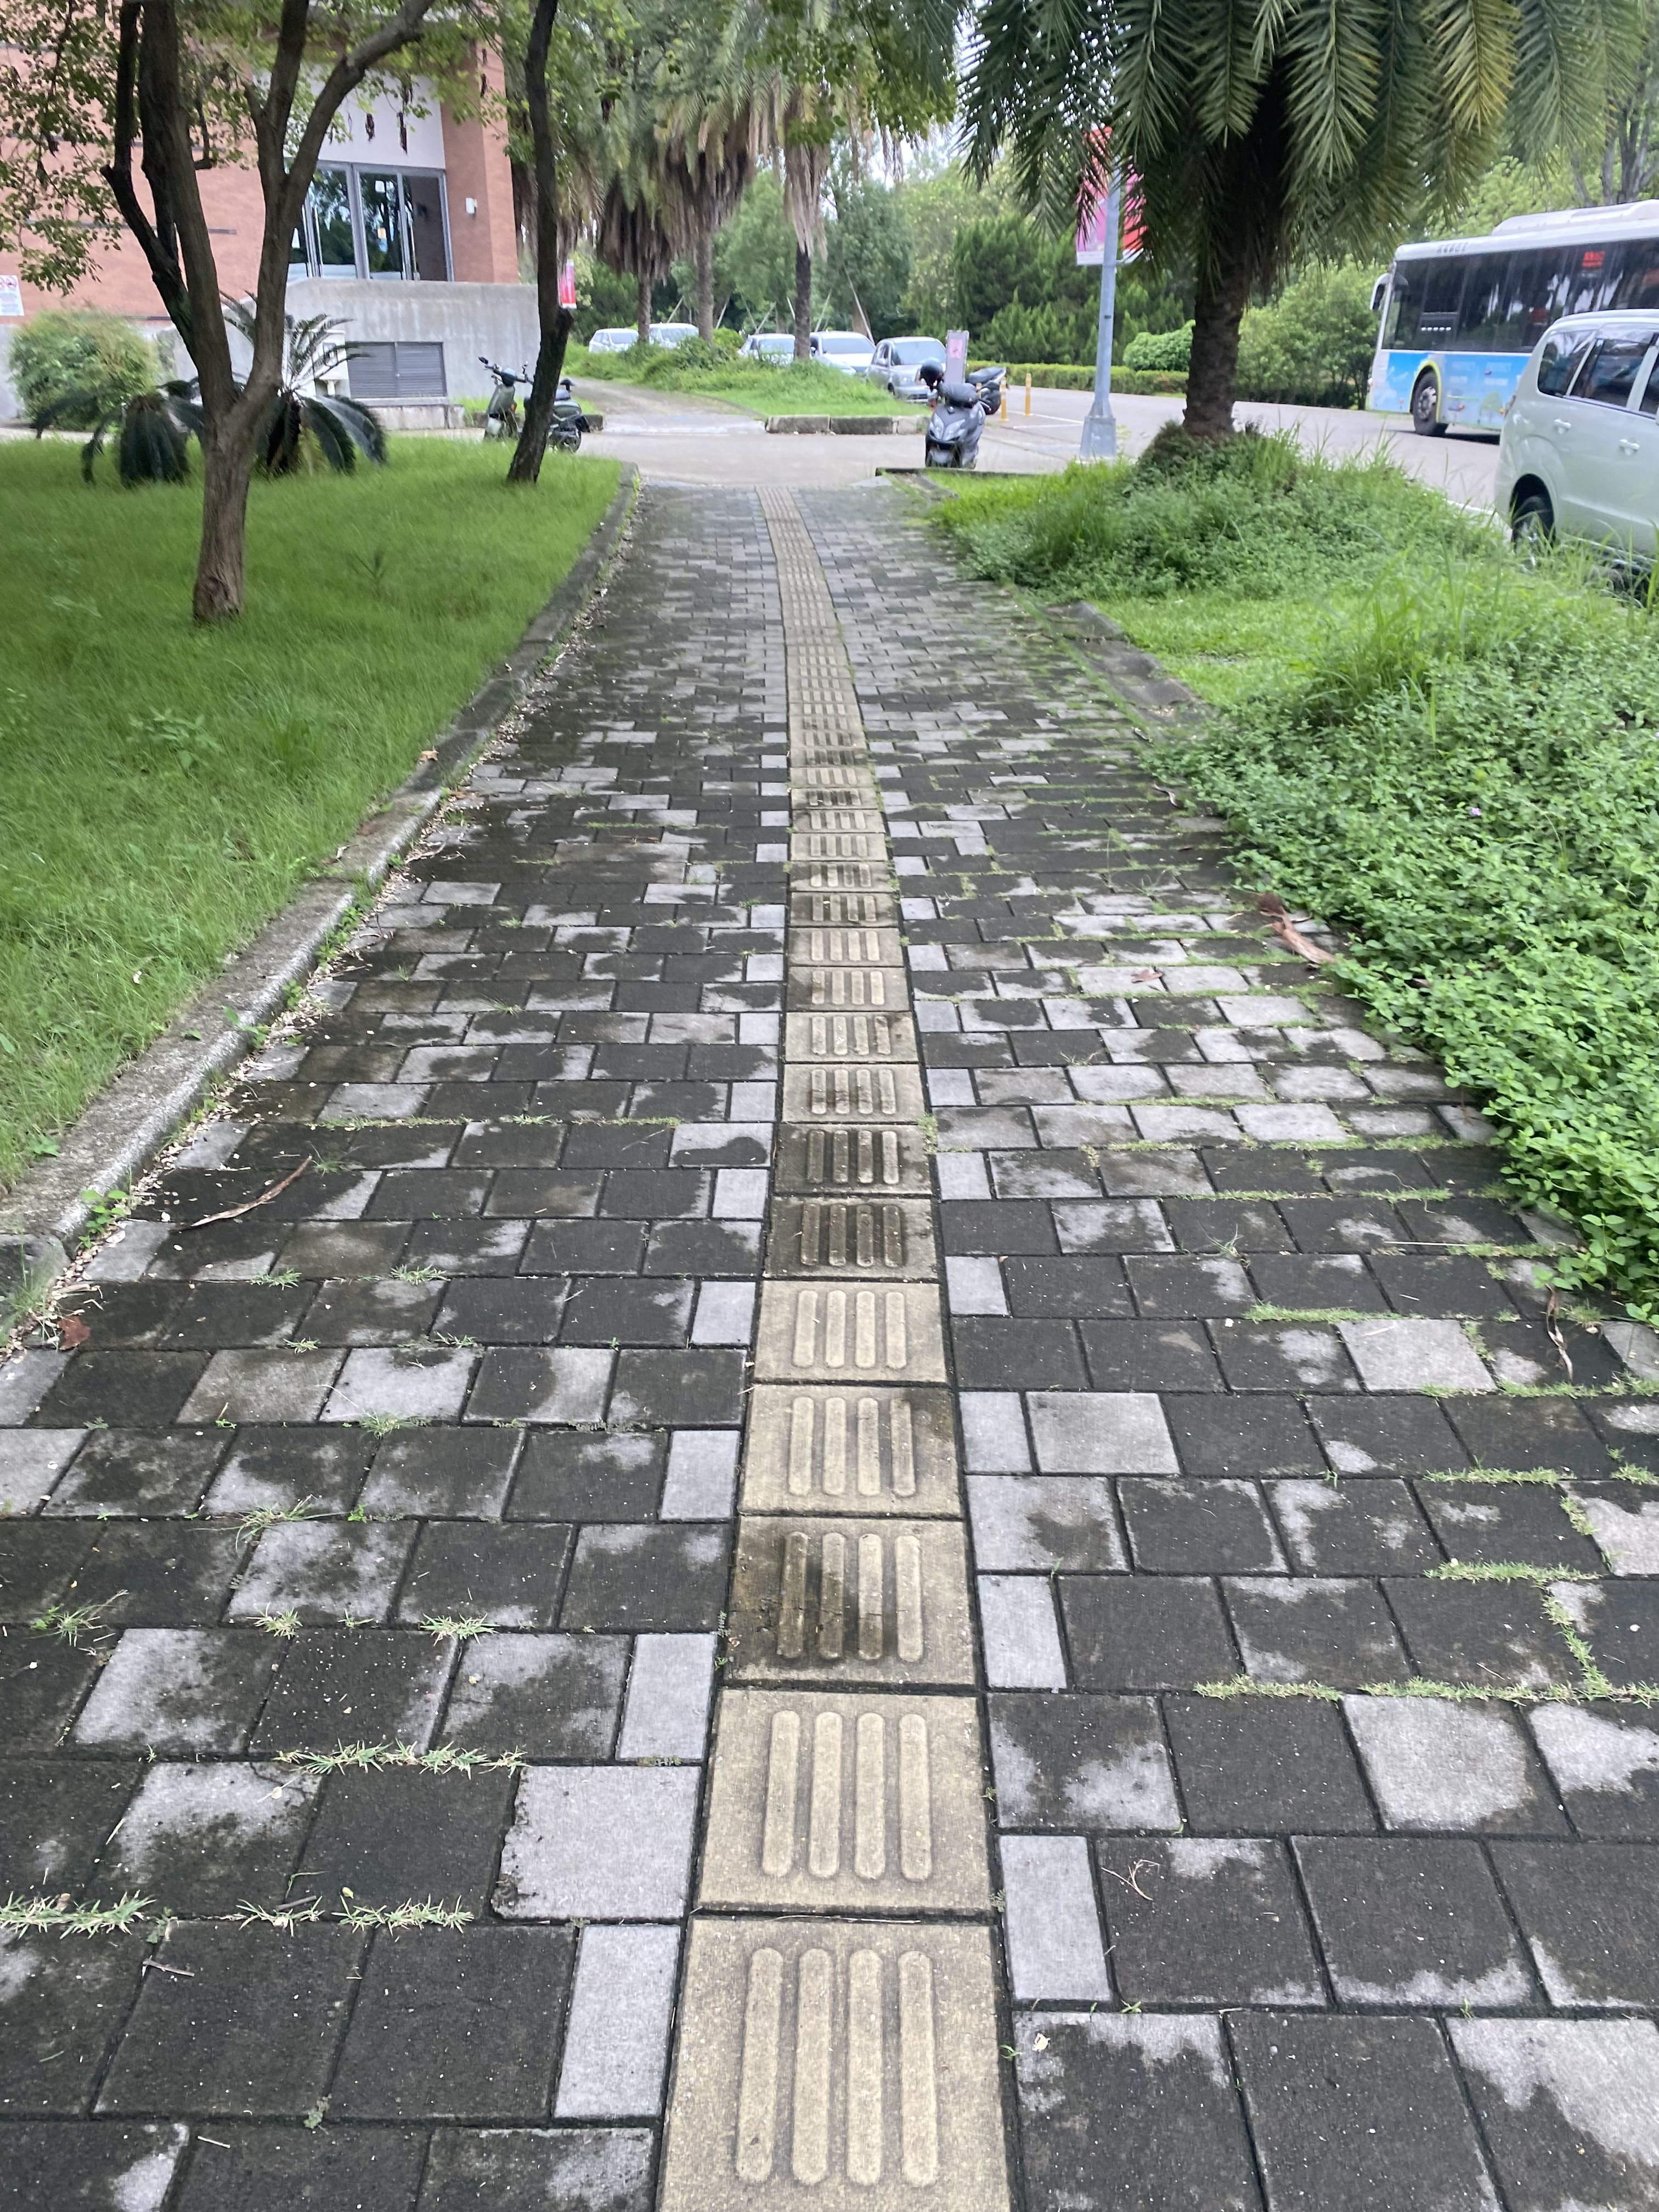sidewalk: (0, 453, 1659, 2212)
